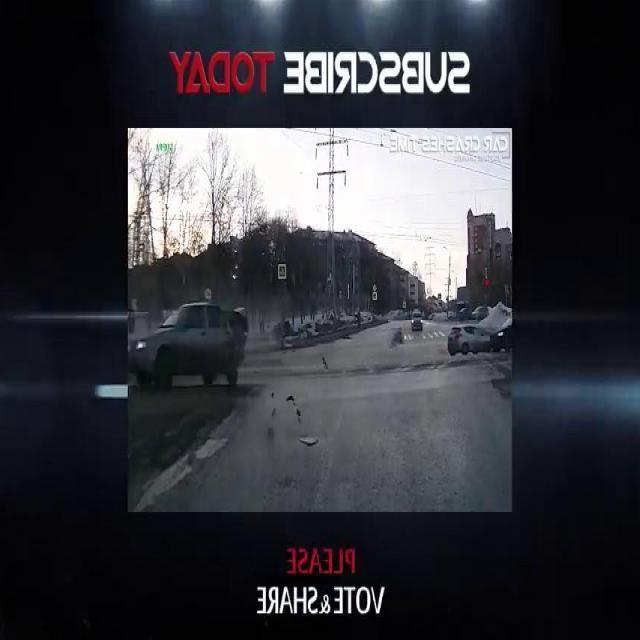accident: (444, 314, 514, 360)
